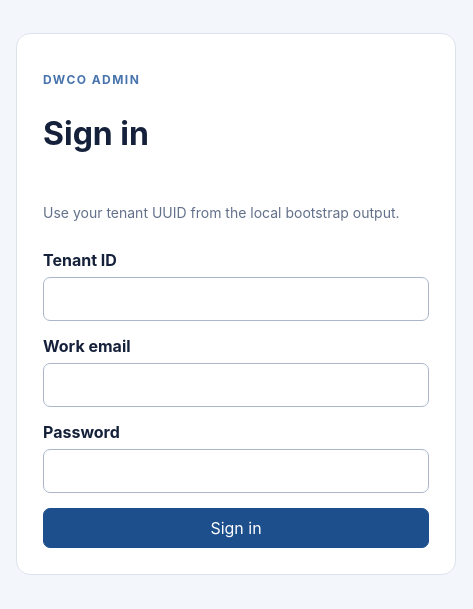
Test case: AdminShell › reports failed authentication without exposing the workspace
In the field labelled "Tenant ID": (236, 299) 43,277 -> 429,321, type "tenant-a"
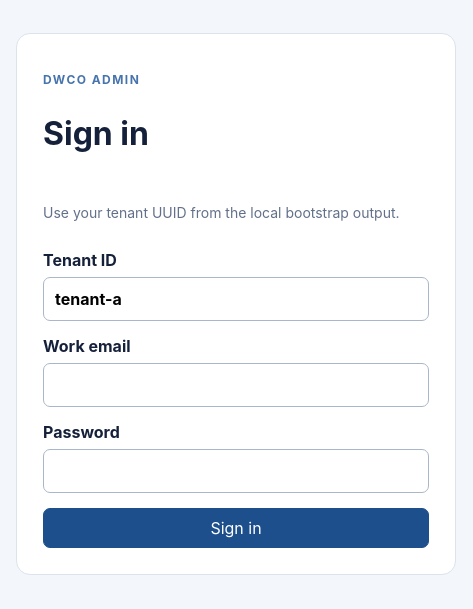
In the field labelled "Work email": (236, 385) 43,363 -> 429,407, type "user@example.com"
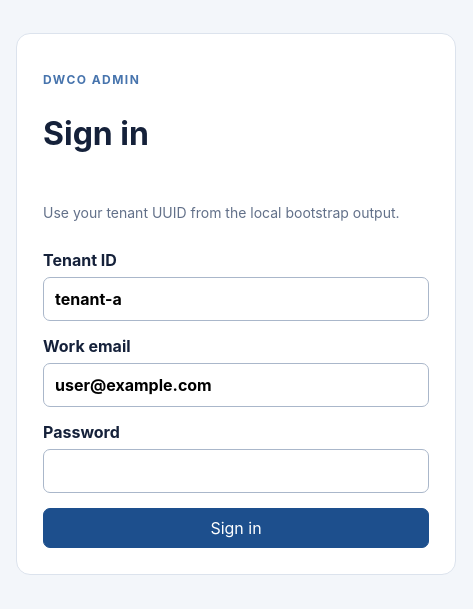
In the password field labelled "Password": (236, 471) 43,449 -> 429,493, type "wrong-password"
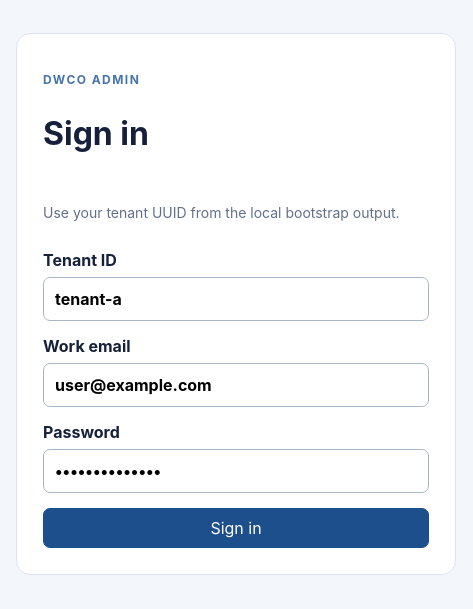
Click the button "Sign in": (236, 528) 43,508 -> 429,548
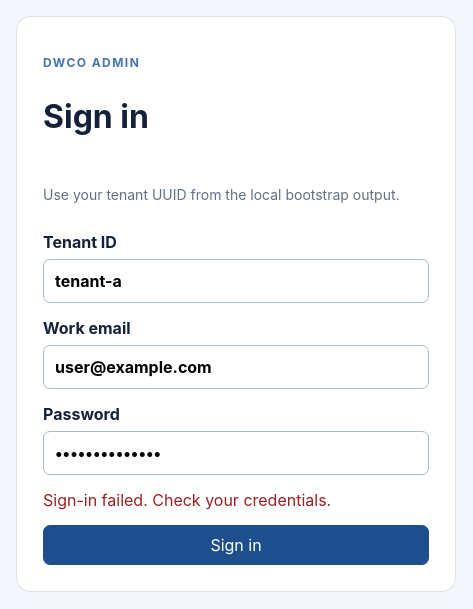
Check: the message shows "Sign-in failed", box 43,490 -> 331,510
